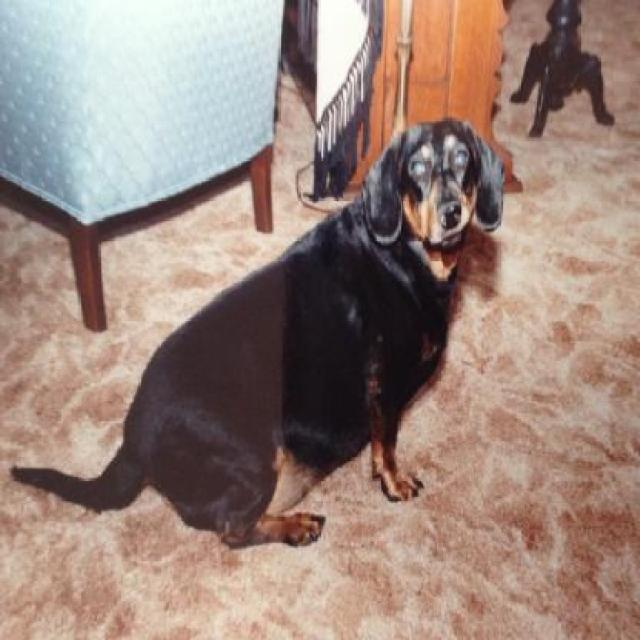Dog: (6, 110, 506, 564)
